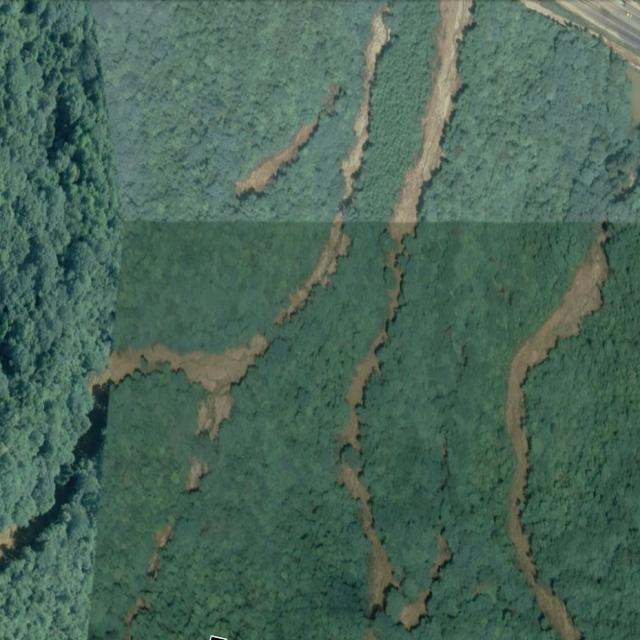landslide: (340, 0, 472, 614), (506, 224, 610, 640), (274, 6, 391, 325), (96, 335, 269, 440), (236, 119, 319, 194)
